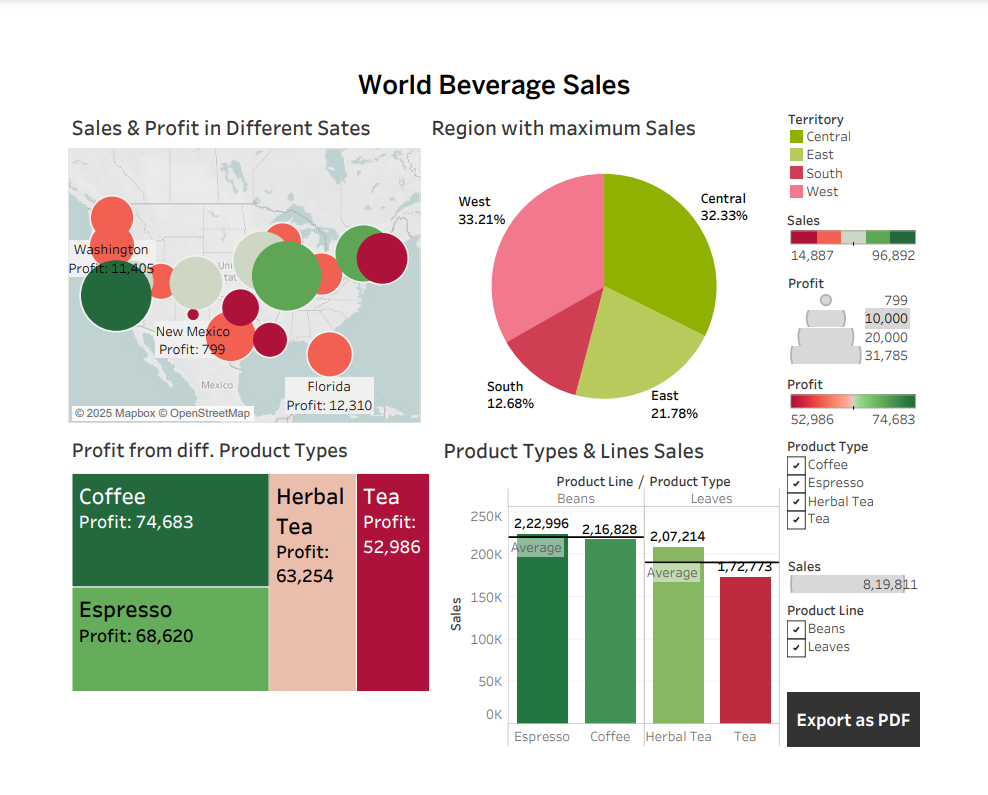

What the dashboard file says about the page in this screenshot:
{"tool":"tableau","page":{"name":"Dashboard","canvas":[1000,800],"ordinal":0},"visuals":[{"type":"title","box":[8,8,984,44]},{"type":"worksheet","title":"a.","mark":"Automatic","box":[8,52,412,370]},{"type":"worksheet","title":"c.","mark":"Pie","box":[420,52,412,370]},{"type":"legend","title":"c.","param":"[federated.0w3j6lb103txvp1554dzm0rvrmkt].[none:Territory:nk]","box":[832,52,160,114]},{"type":"legend","title":"a.","param":"[federated.0w3j6lb103txvp1554dzm0rvrmkt].[sum:Sales:qk]","box":[832,166,160,73]},{"type":"legend","title":"a.","param":"[federated.0w3j6lb103txvp1554dzm0rvrmkt].[sum:Profit:qk]","box":[832,239,160,135]},{"type":"legend","title":"b.","param":"[federated.0w3j6lb103txvp1554dzm0rvrmkt].[sum:Profit:qk]","box":[832,374,160,73]},{"type":"worksheet","title":"b.","mark":"Automatic","box":[8,422,426,370]},{"type":"worksheet","title":"d.","mark":"Bar","rows":["Sales"],"cols":["Product Line","Product Type"],"box":[434,422,398,370]},{"type":"filter","title":"c.","param":"[federated.0w3j6lb103txvp1554dzm0rvrmkt].[none:Product Type:nk]","box":[832,447,160,105]},{"type":"legend","title":"c.","param":"[federated.0w3j6lb103txvp1554dzm0rvrmkt].[sum:Sales:qk]","box":[832,552,160,51]},{"type":"filter","title":"d.","param":"[federated.0w3j6lb103txvp1554dzm0rvrmkt].[none:Product Line:nk]","box":[832,603,160,105]},{"type":"dashboard-object","box":[832,708,160,71]}]}

Visuals, with their boxes in screenshot pixels (x1, y1, x2, y2), scaled from the page's 1000x800 canvas onto the 988x795 screenshot:
title: (left=8, top=8, right=980, bottom=52)
"a." worksheet: (left=8, top=52, right=415, bottom=419)
"c." worksheet (Pie marks): (left=415, top=52, right=822, bottom=419)
"c." legend: (left=822, top=52, right=980, bottom=165)
"a." legend: (left=822, top=165, right=980, bottom=238)
"a." legend: (left=822, top=238, right=980, bottom=372)
"b." legend: (left=822, top=372, right=980, bottom=444)
"b." worksheet: (left=8, top=419, right=429, bottom=787)
"d." worksheet (Bar marks): (left=429, top=419, right=822, bottom=787)
"c." filter: (left=822, top=444, right=980, bottom=549)
"c." legend: (left=822, top=549, right=980, bottom=599)
"d." filter: (left=822, top=599, right=980, bottom=704)
dashboard-object: (left=822, top=704, right=980, bottom=774)
